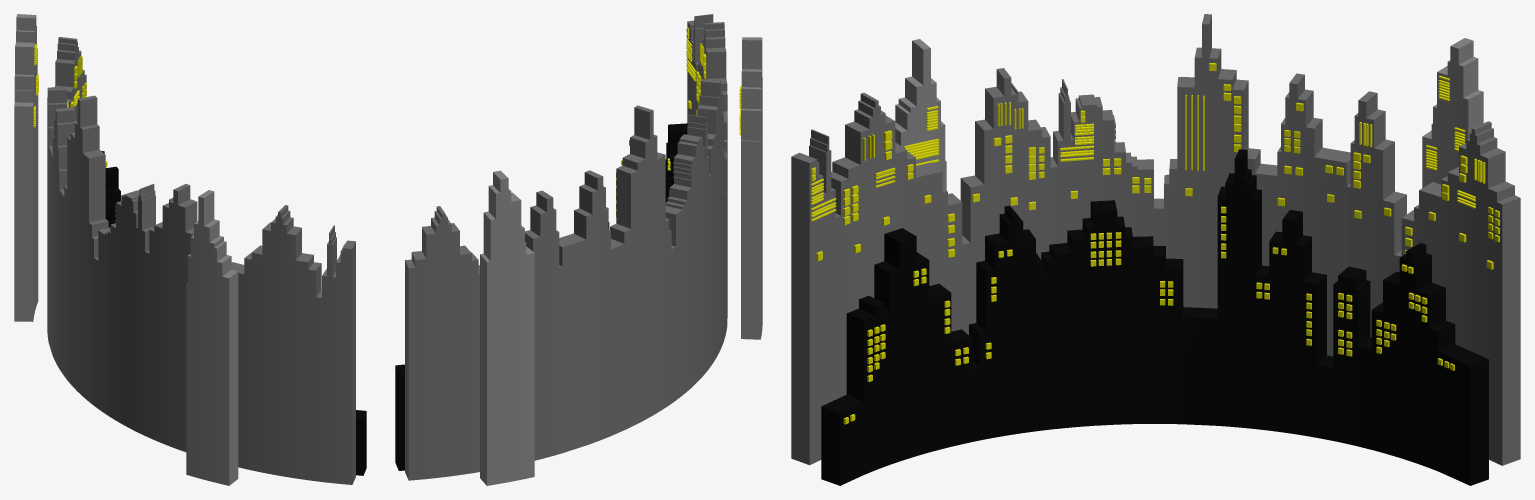
Rendered from silhouette_background.fbx.
3 views of the same model, side by side, from view 1: azimuth 30°, elevation 25°; view 2: azimuth 150°, elevation 25°; view 3: azimuth 270°, elevation 25° (orthographic). The views are drawn at different scales.
Parts seen in each view (by area): view 1: group10_pCube249; view 2: group10_pCube249; view 3: group10_pCube249.
Part boxes in pixels (x1,y1,x2,y2): group10_pCube249: (14, 14, 366, 485); group10_pCube249: (395, 14, 762, 485); group10_pCube249: (791, 14, 1520, 485).
Bounding box in the file's own units: 8.84 × 17.24 × 29.84.
